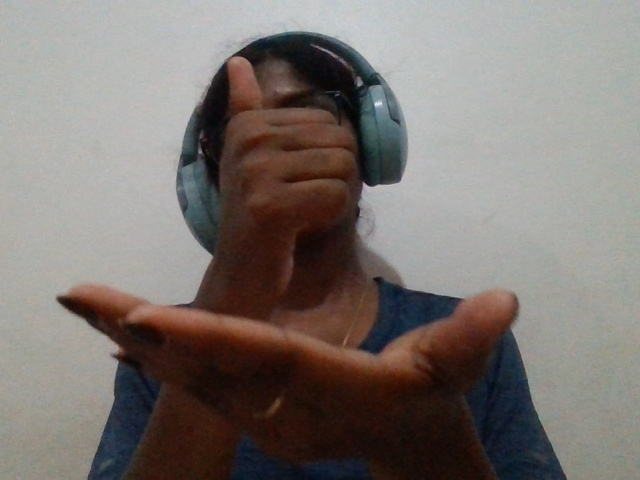Help: (31, 38, 563, 480)
